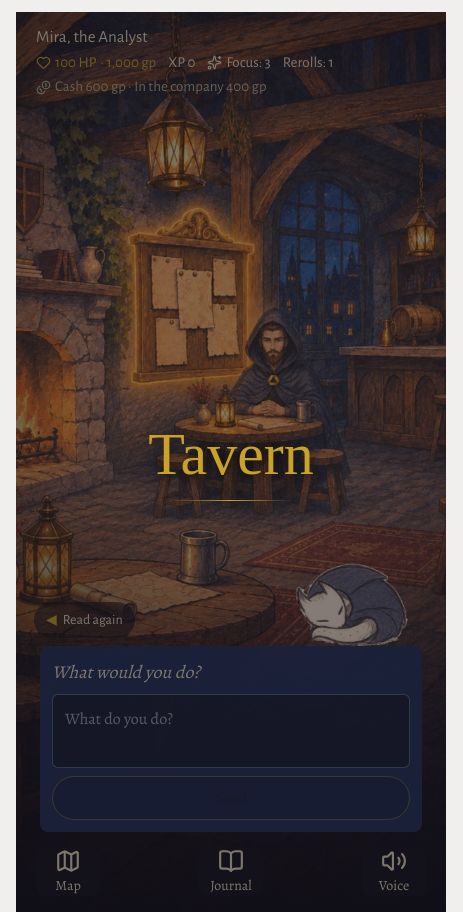
Test case: PlayScreen: sending actions › writing indicator appears at once, then after 15 s the thread is lost and Try again resends the same request
Earlier steps of the test are not shown.
Later steps or results of the test are not shown.
Click the button with test id "title-card" at (42, 462), box [16,12,446,911]
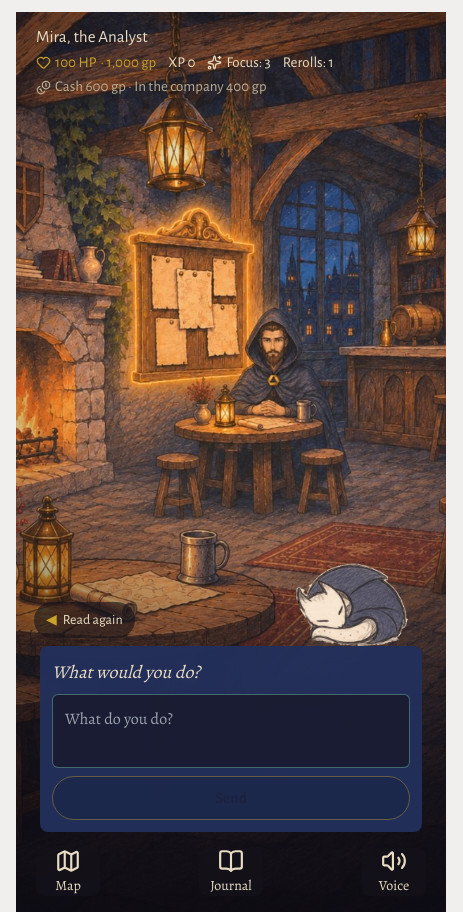
Type "Walk to Market Square and study the price board" into the text box at (231, 731), box [52,694,410,768]
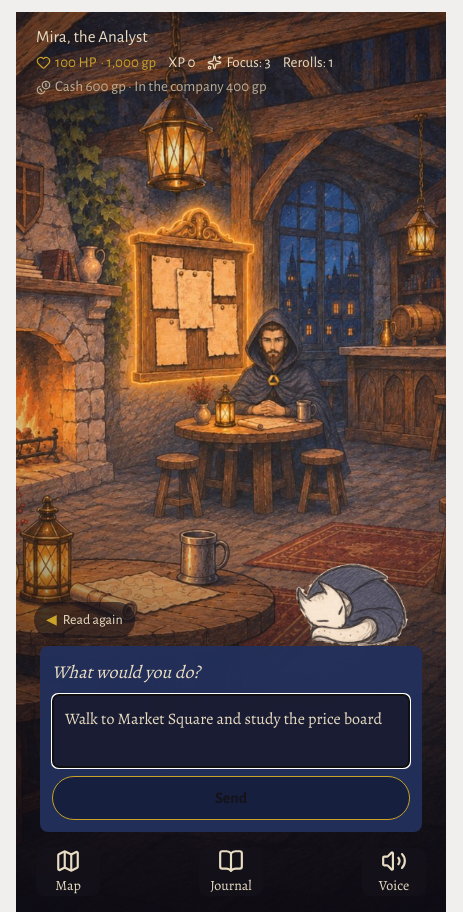
Click the button "Send" at (231, 798), box [52,776,410,820]
Wait 15000 ms
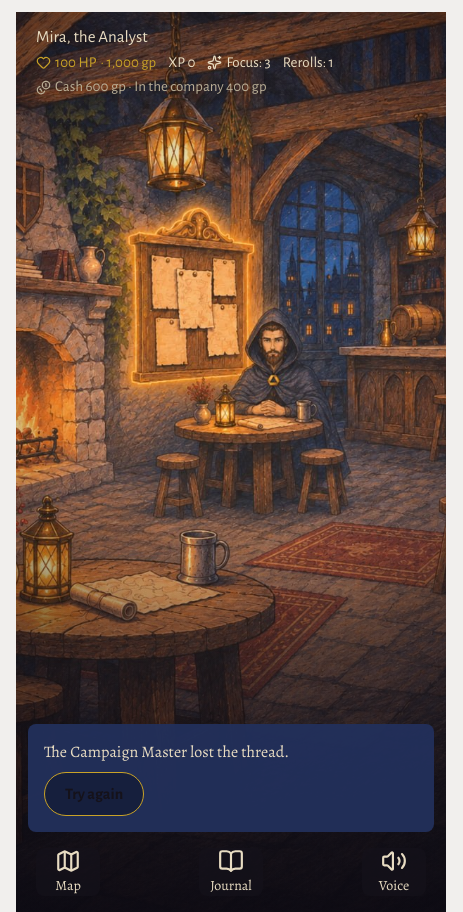
expect the message shows "The Campaign Master lost the thread.": met, box [44,741,289,763]
Click the button "Try again" at (94, 794), box [44,772,144,816]
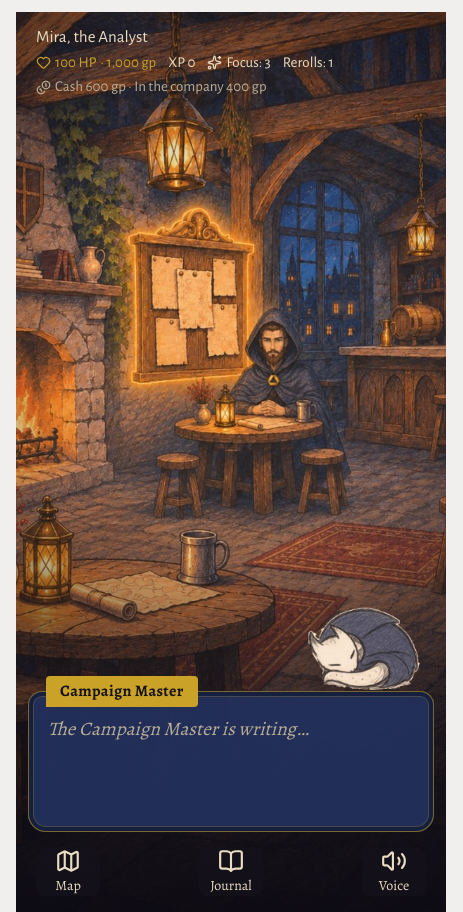
expect the message reads "The Campaign Master is writing…": met, box [48,716,309,742]
